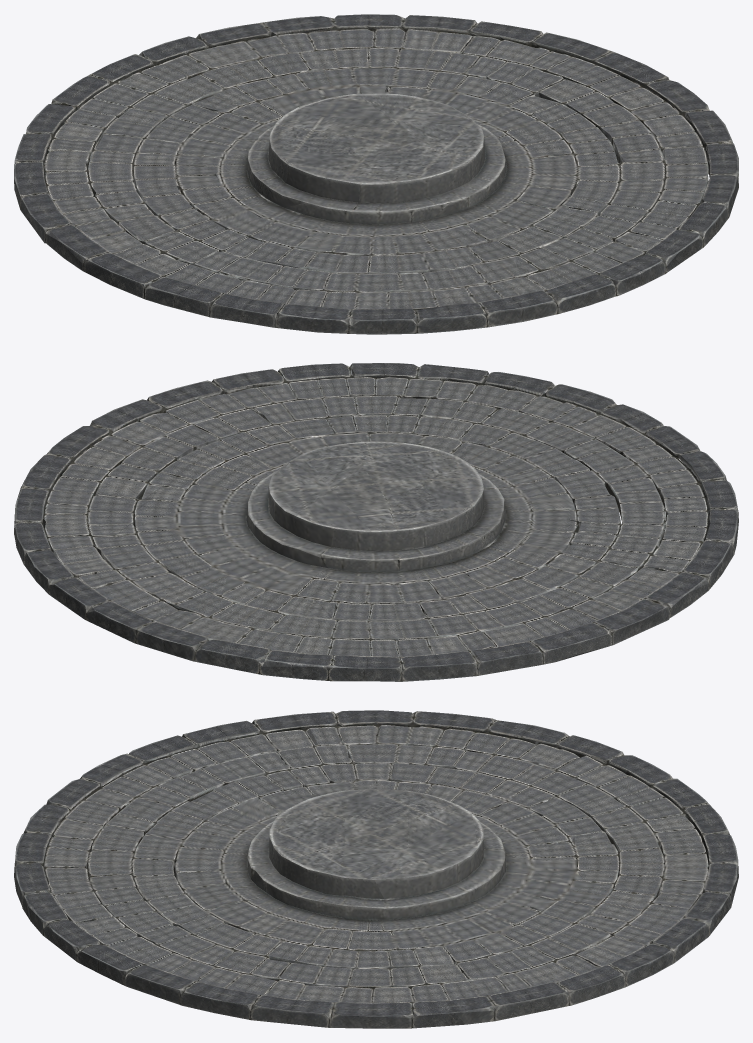
The model's file is plaza_disc.glb.
3 views of the same model, one above another, from view 1: azimuth 30°, elevation 25°; view 2: azimuth 150°, elevation 25°; view 3: azimuth 270°, elevation 25° (orthographic).
Parts seen in each view (by area): view 1: Mesh_0; view 2: Mesh_0; view 3: Mesh_0.
Part boxes in pixels (x1,y1,x2,y2): Mesh_0: (14, 14, 738, 334); Mesh_0: (14, 363, 738, 681); Mesh_0: (14, 710, 738, 1028).
Bounding box in the file's own units: 13 × 1.02 × 13.03.
1 material, 1 textured.
